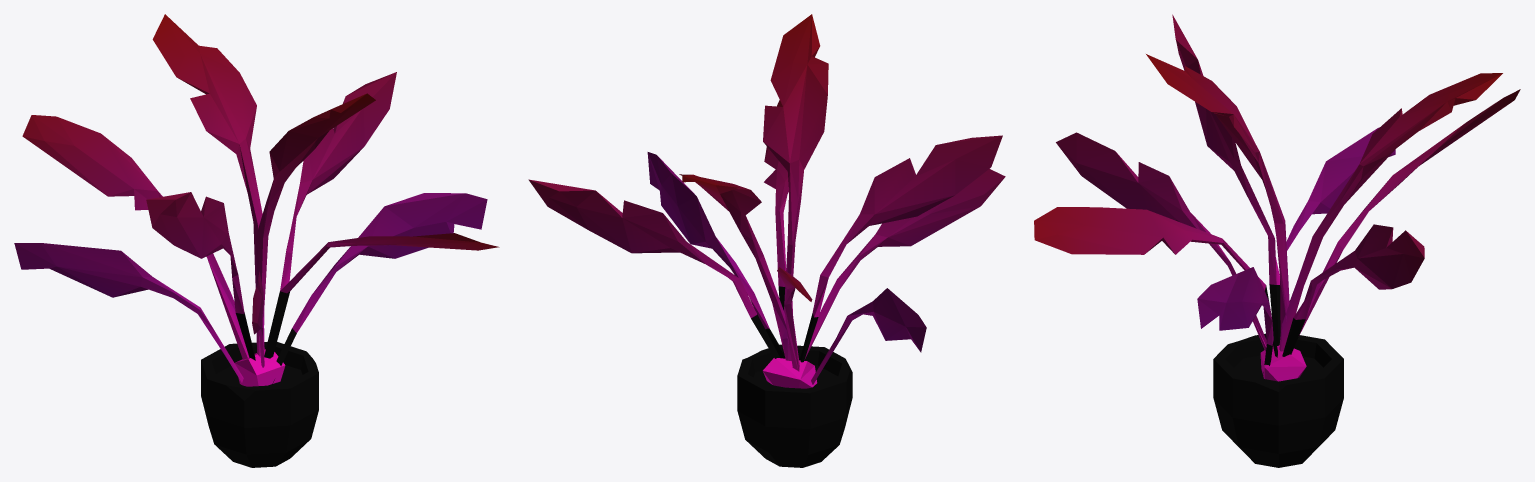
File: SM_Prop_Plant_12.fbx
The picture shows the model from 3 angles, left to right: view 1: azimuth 30°, elevation 25°; view 2: azimuth 150°, elevation 25°; view 3: azimuth 270°, elevation 25°; orthographic projection. The views are drawn at different scales.
Parts seen in each view (by area): view 1: SM_Prop_Plant_12; view 2: SM_Prop_Plant_12; view 3: SM_Prop_Plant_12.
Part boxes in pixels (x1=…): SM_Prop_Plant_12: x1=14, y1=14, x2=499, y2=467; SM_Prop_Plant_12: x1=528, y1=14, x2=1005, y2=467; SM_Prop_Plant_12: x1=1034, y1=14, x2=1520, y2=467.
Bounding box in the file's own units: 1.81 × 1.73 × 1.8.
